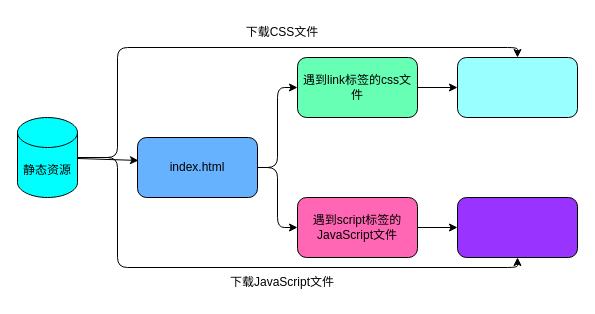
This 595x314 diagram has some shape labels left out. Each missing label, with the box of its shape:
xxx..JavaScript: (456, 196, 578, 258)
xxx.css: (456, 56, 578, 118)
